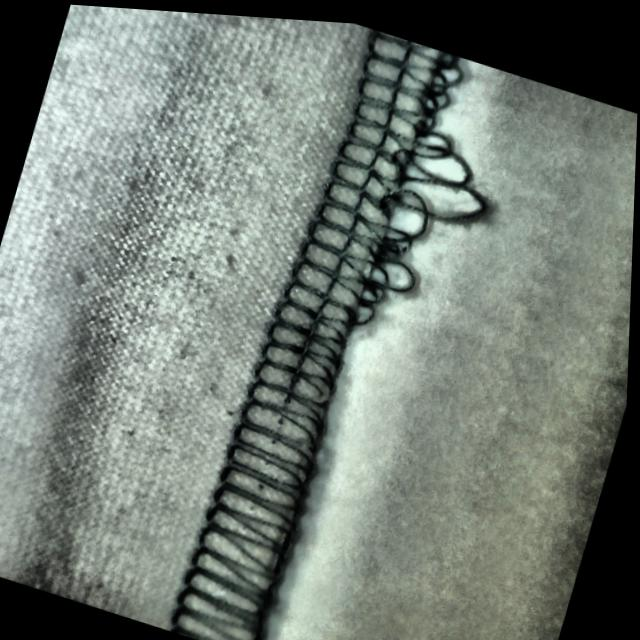Stitch: (278, 15, 528, 350)
